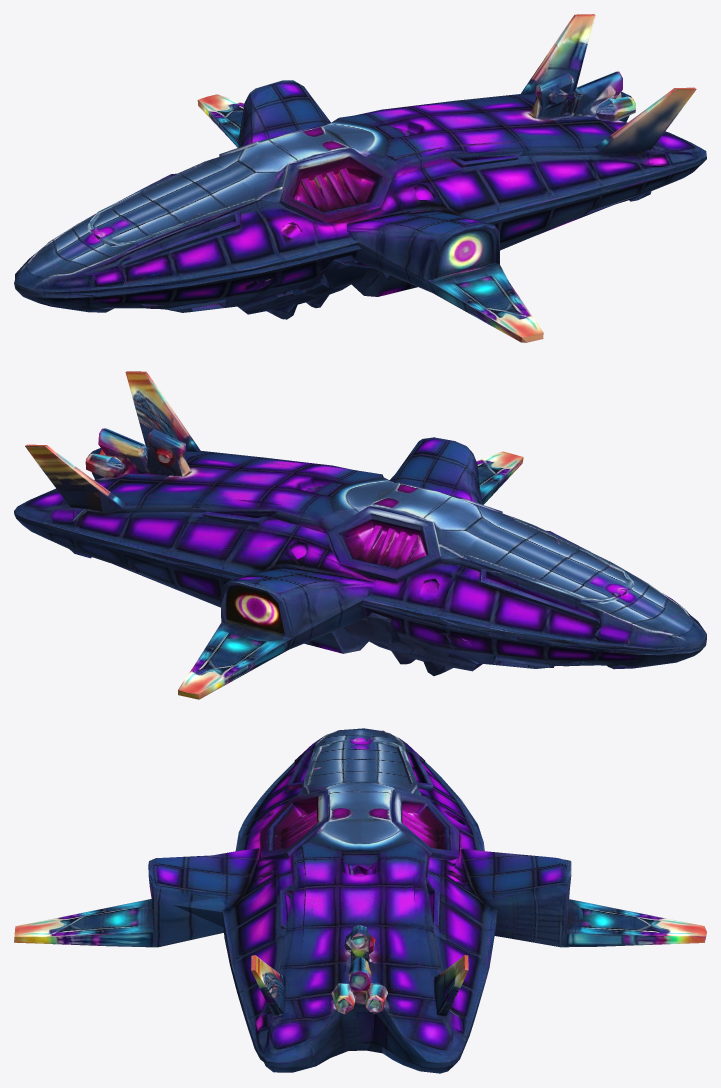
Rendered from nation-c-cruiser.glb.
3 views of the same model, one above another, from view 1: azimuth 30°, elevation 25°; view 2: azimuth 150°, elevation 25°; view 3: azimuth 270°, elevation 25° (orthographic). The views are drawn at different scales.
Size of the model in its own units: 1.9 by 0.4918 by 1.65.
Materials: 1 (1 with a texture image).
